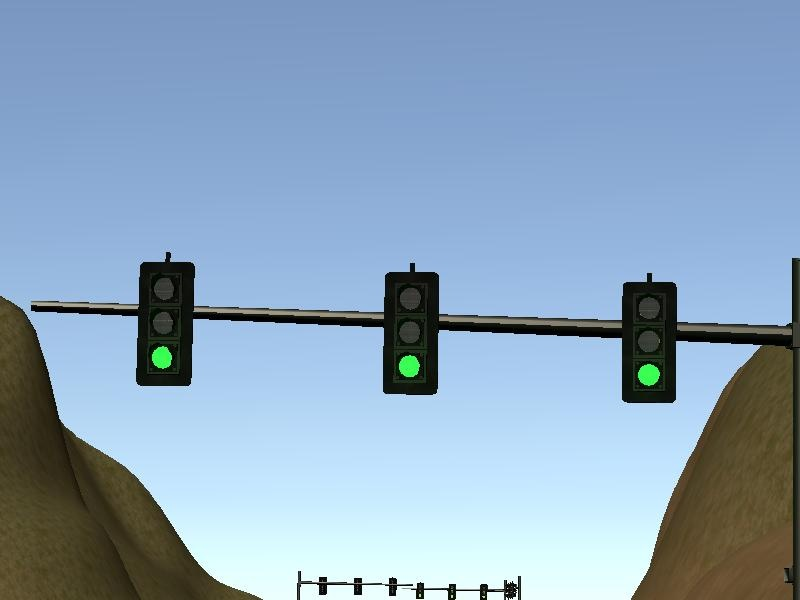GREEN: (619, 277, 681, 410), (133, 260, 196, 389), (381, 268, 443, 395)
